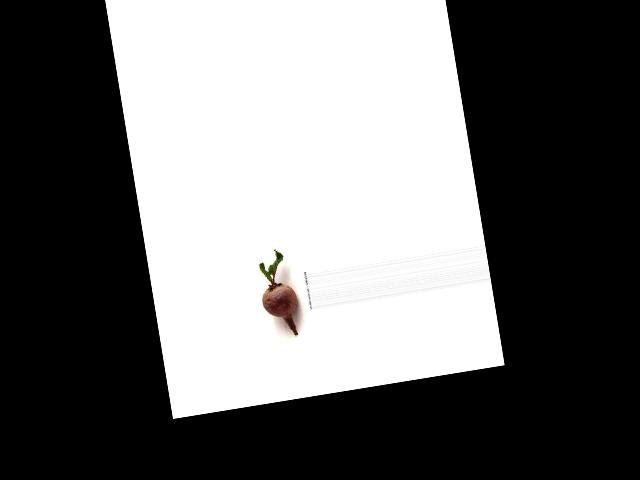beet: (254, 246, 302, 338)
